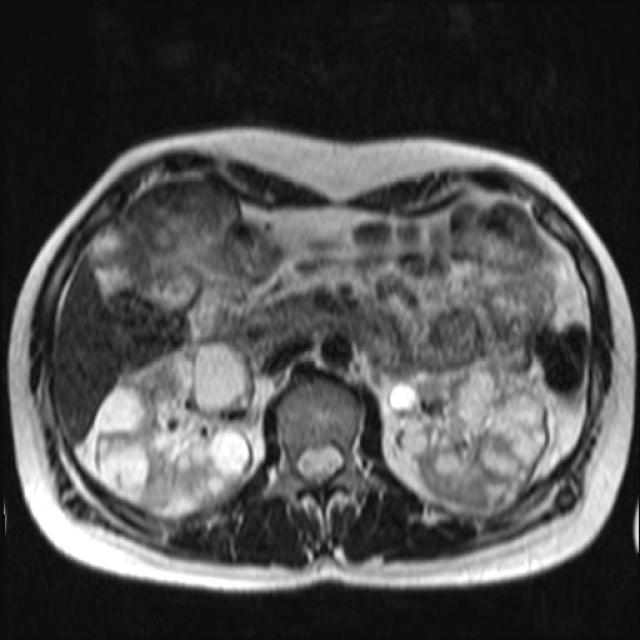sag: (94, 335, 255, 514)
sol: (393, 361, 551, 509)
